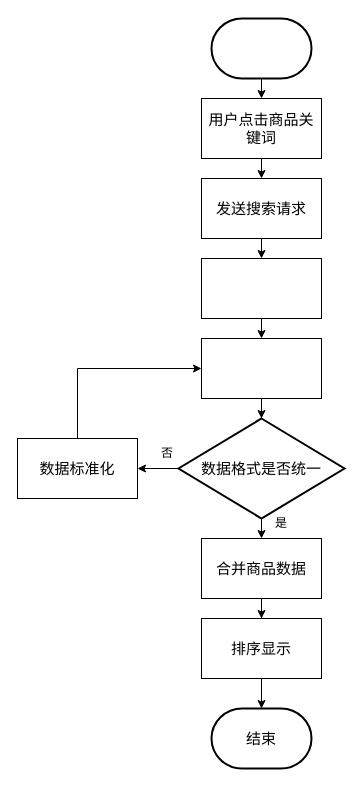
Image size: 363x786. Some labels were removed from this diagram. Here are the shapes that lost their labels. From the top down, the box of each, then its label:
(210, 17, 312, 79): 开始
(200, 258, 322, 318): 并发请求多平台API
(200, 338, 322, 398): 获得多平台返回数据
